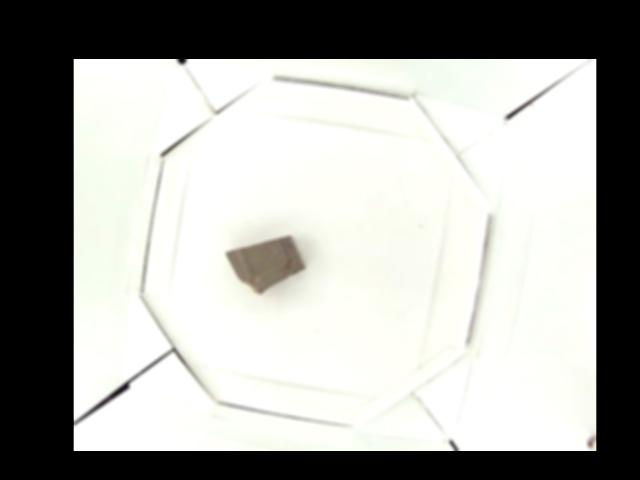China: (223, 234, 306, 297)
